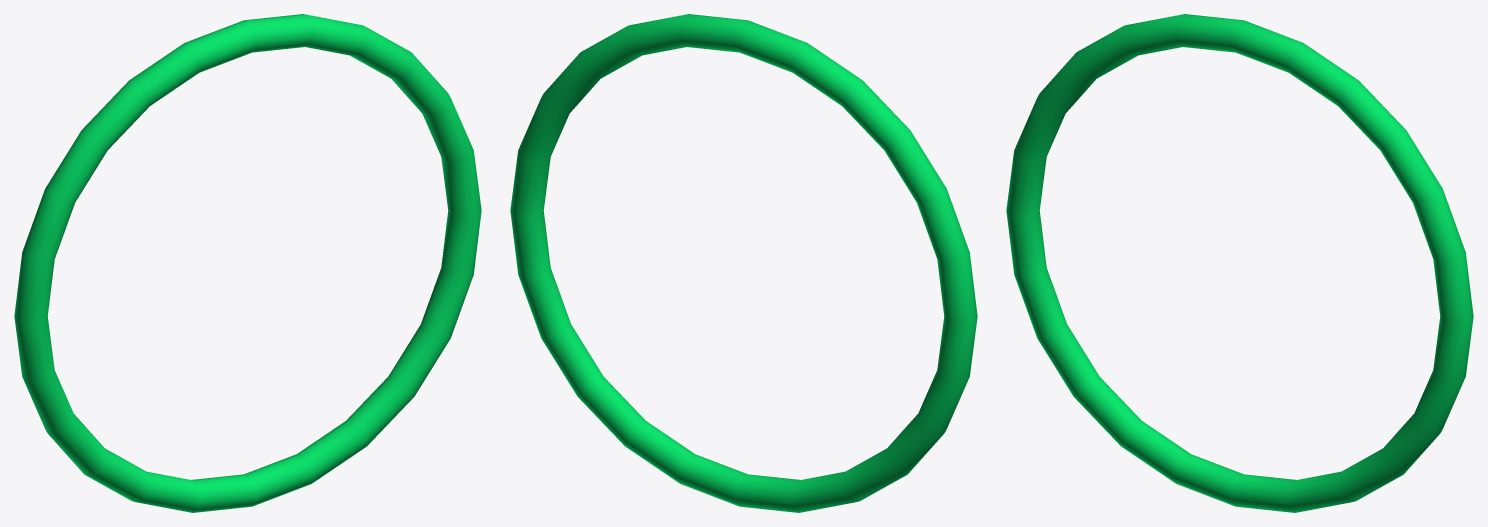
Rendered from SM_MapModel_FacilityRing3.FBX.
3 renders of one model, left to right at view 1: azimuth 30°, elevation 25°; view 2: azimuth 150°, elevation 25°; view 3: azimuth 330°, elevation 25°, orthographic.
Visible parts, largest first — view 1: Torus003; view 2: Torus003; view 3: Torus003.
Boxes of the visible parts, x1,y1,x2,y2 form: Torus003: [14, 14, 481, 512]; Torus003: [510, 14, 977, 512]; Torus003: [1006, 14, 1473, 512].
Bounding box in the file's own units: 29861 × 29861 × 1866.
